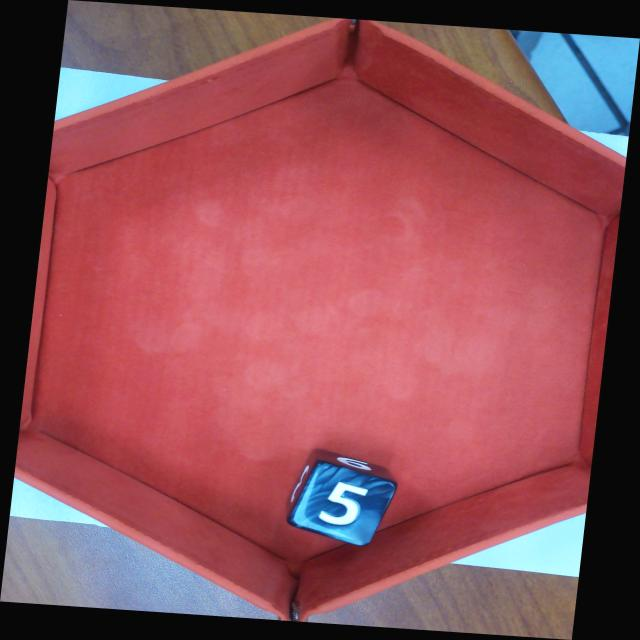dice: (286, 459, 400, 549)
